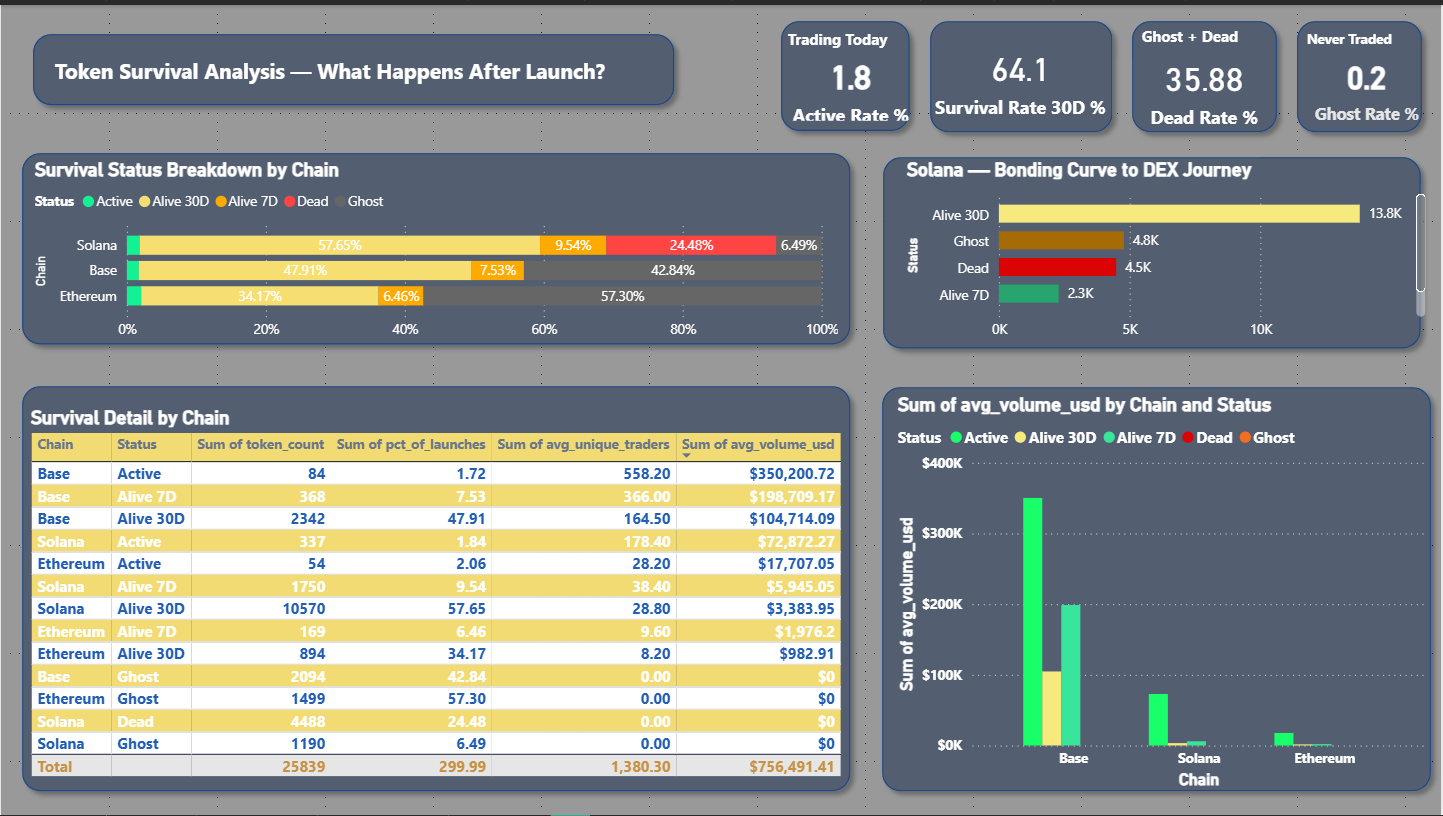

Layout of this report page (visuals, bound fields, positions):
{"tool":"powerbi","page":{"name":"Survival Analysis","canvas":[1280,720],"ordinal":2},"visuals":[{"type":"shape","box":[19.8,16.9,587.9,81.2],"z":0,"group":"g1"},{"type":"shape","box":[9.9,122.8,754.1,188],"z":1000,"group":"g1"},{"type":"group","id":"g1","title":"Group 1","box":[9.9,5.6,1269.8,702.1],"z":1500},{"type":"textbox","box":[42.2,41.1,515.6,41.1],"z":2000},{"type":"shape","box":[9.9,329.6,754.1,378.1],"z":3000,"group":"g1"},{"type":"card","fields":{"Values":["Survival_Rate.Dead Rate %"]},"box":[1008.9,14.4,121.1,100],"z":4000},{"type":"shape","box":[774.9,126.7,495.8,188],"z":5000,"group":"g1"},{"type":"card","fields":{"Values":["Survival_Rate.Ghost Rate %"]},"box":[1155.6,16.7,116.7,91.1],"z":6000},{"type":"card","fields":{"Values":["Survival_Rate.Survival Rate 30D %"]},"box":[822.2,14.4,167.8,104.4],"z":7000},{"type":"shape","box":[773.9,330.6,505.7,377.1],"z":8000,"group":"g1"},{"type":"card","fields":{"Values":["Survival_Rate.Active Rate %"]},"box":[694.4,16.7,122.2,91.1],"z":9000},{"type":"shape","box":[684.4,5.6,132.2,115.6],"z":10000,"group":"g1"},{"type":"hundredPercentStackedBarChart","title":"Survival Status Breakdown by Chain","fields":{"Category":["DimChain.Chain"],"Y":["Sum(Survival_Rate.token_count)"],"Series":["Survival_Rate.Status"]},"box":[24.4,135.6,724.4,170],"z":11000},{"type":"shape","box":[816.7,5.6,180,116.7],"z":12000,"group":"g1"},{"type":"tableEx","title":"Survival Detail by Chain","fields":{"Values":["DimChain.Chain","Survival_Rate.Status","Sum(Survival_Rate.token_count)","Sum(Survival_Rate.pct_of_launches)","Sum(Survival_Rate.avg_unique_traders)","Sum(Survival_Rate.avg_volume_usd)"]},"box":[21.1,356.7,731.1,340],"z":13000},{"type":"shape","box":[996.7,5.6,146.7,116.7],"z":14000,"group":"g1"},{"type":"clusteredBarChart","title":"Solana — Bonding Curve to DEX Journey","fields":{"Category":["Survival_Rate.Status"],"Y":["Sum(Survival_Rate.token_count)"]},"box":[800,135.6,471.1,170],"z":15000},{"type":"shape","box":[1143.3,5.6,128.9,116.7],"z":16000,"group":"g1"},{"type":"clusteredColumnChart","fields":{"Category":["DimChain.Chain"],"Series":["Survival_Rate.Status"],"Y":["Sum(Survival_Rate.avg_volume_usd)"]},"box":[792.2,344.4,478.9,356.7],"z":17000}]}

Visuals, with their boxes in screenshot pixels (x1, y1, x2, y2), scaled from the page's 1280x720 canvas onto the 1443x816 screenshot:
shape: locate(22, 19, 685, 111)
shape: locate(11, 139, 861, 352)
"Group 1" group: locate(11, 6, 1442, 802)
textbox: locate(48, 47, 629, 93)
shape: locate(11, 374, 861, 802)
card - Survival_Rate.Dead Rate %: locate(1137, 16, 1274, 130)
shape: locate(874, 144, 1433, 357)
card - Survival_Rate.Ghost Rate %: locate(1303, 19, 1434, 122)
card - Survival_Rate.Survival Rate 30D %: locate(927, 16, 1116, 135)
shape: locate(872, 375, 1442, 802)
card - Survival_Rate.Active Rate %: locate(783, 19, 921, 122)
shape: locate(772, 6, 921, 137)
"Survival Status Breakdown by Chain" hundredPercentStackedBarChart: locate(28, 154, 844, 346)
shape: locate(921, 6, 1124, 139)
"Survival Detail by Chain" tableEx: locate(24, 404, 848, 790)
shape: locate(1124, 6, 1289, 139)
"Solana — Bonding Curve to DEX Journey" clusteredBarChart: locate(902, 154, 1433, 346)
shape: locate(1289, 6, 1434, 139)
clusteredColumnChart - DimChain.Chain x Survival_Rate.Status: locate(893, 390, 1433, 795)
